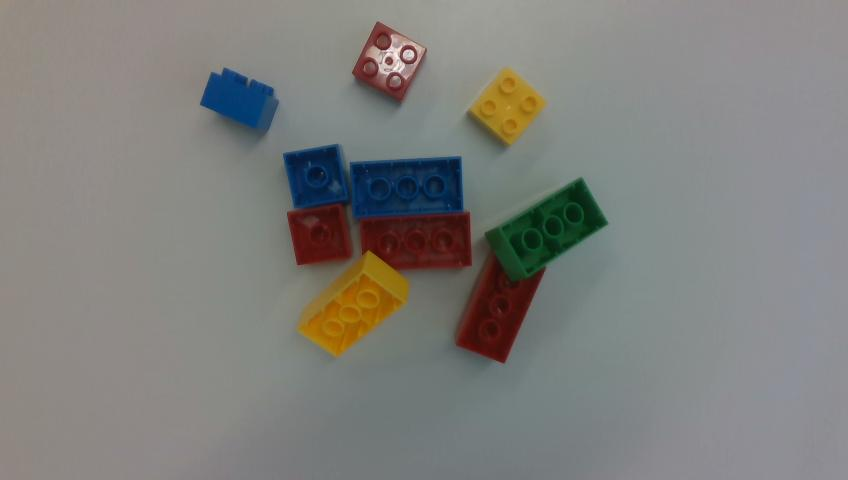2x2_blue: (201, 68, 278, 133), (284, 145, 348, 208)
2x2_red: (352, 22, 427, 99), (288, 204, 351, 264)
2x2_yellow: (468, 67, 546, 145)
4x2_blue: (352, 157, 463, 217)
4x2_green: (486, 178, 607, 280)
4x2_red: (457, 250, 545, 362), (362, 212, 471, 268)
4x2_yellow: (297, 251, 409, 356)
